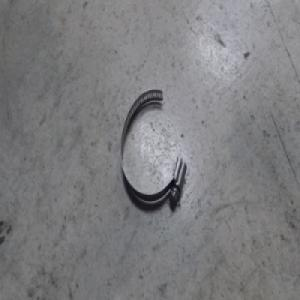AdjustableClamp: (117, 90, 184, 217)
